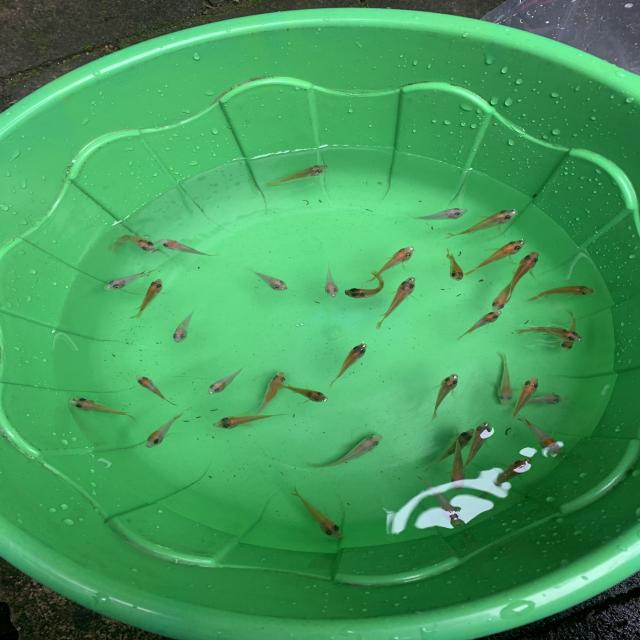nila: (304, 430, 389, 477), (289, 486, 346, 542), (463, 234, 528, 280), (444, 206, 519, 244), (142, 404, 196, 454), (420, 426, 474, 474), (66, 394, 150, 423), (125, 274, 169, 328), (329, 338, 375, 389), (247, 366, 289, 421), (208, 404, 294, 430), (442, 423, 472, 496), (524, 416, 572, 461), (455, 308, 510, 344), (365, 245, 417, 283), (264, 162, 336, 189), (507, 250, 543, 303), (274, 382, 338, 411), (523, 282, 602, 305), (427, 371, 463, 421), (205, 361, 251, 400), (132, 372, 180, 409), (462, 413, 493, 470), (509, 389, 572, 415), (514, 324, 590, 345), (492, 351, 519, 409), (510, 374, 544, 420), (341, 272, 388, 303), (490, 271, 522, 315), (101, 266, 155, 292), (172, 299, 201, 344), (157, 238, 219, 259), (106, 233, 160, 256), (436, 246, 468, 283), (402, 205, 470, 222), (248, 267, 294, 292), (557, 306, 578, 356), (319, 265, 343, 298)
